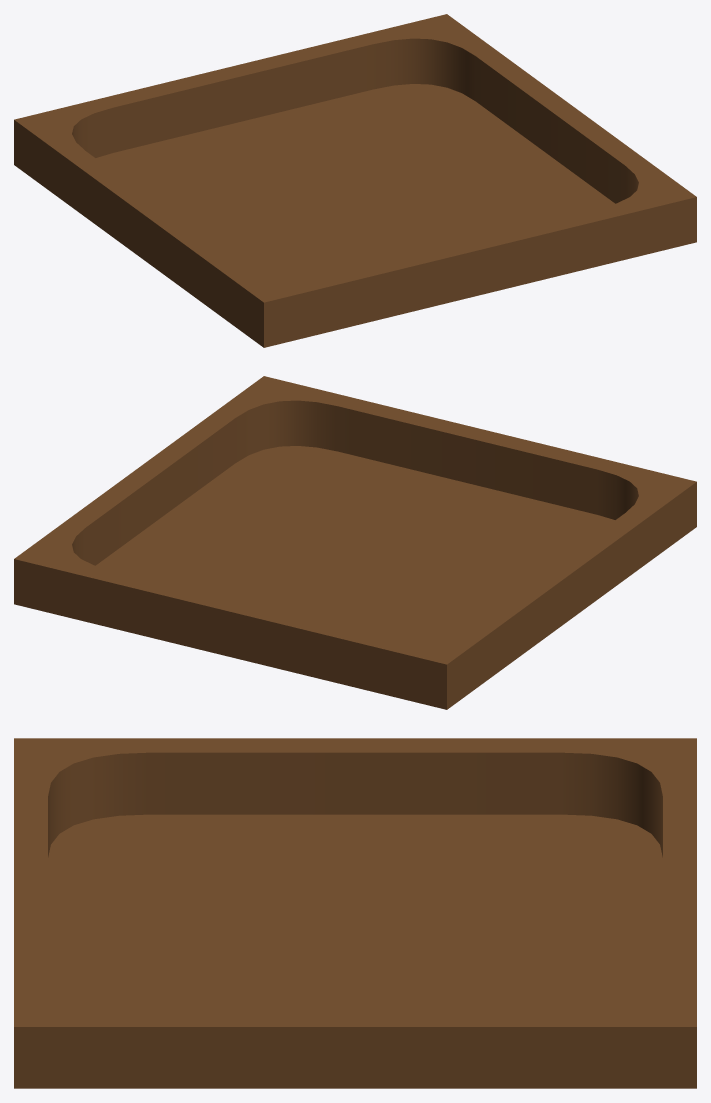
The model's file is Ceiling_B_1x1m_B.FBX.
The picture shows the model from 3 angles, top to bottom: view 1: azimuth 30°, elevation 25°; view 2: azimuth 150°, elevation 25°; view 3: azimuth 270°, elevation 25°; orthographic projection. The views are drawn at different scales.
Parts seen in each view (by area): view 1: Ceiling_B_1x1m_B; view 2: Ceiling_B_1x1m_B; view 3: Ceiling_B_1x1m_B.
Part boxes in pixels (x1,y1,x2,y2): Ceiling_B_1x1m_B: (14, 14, 696, 347); Ceiling_B_1x1m_B: (14, 376, 696, 709); Ceiling_B_1x1m_B: (14, 738, 696, 1088).
Size of the model in its own units: 100 by 10 by 100.
